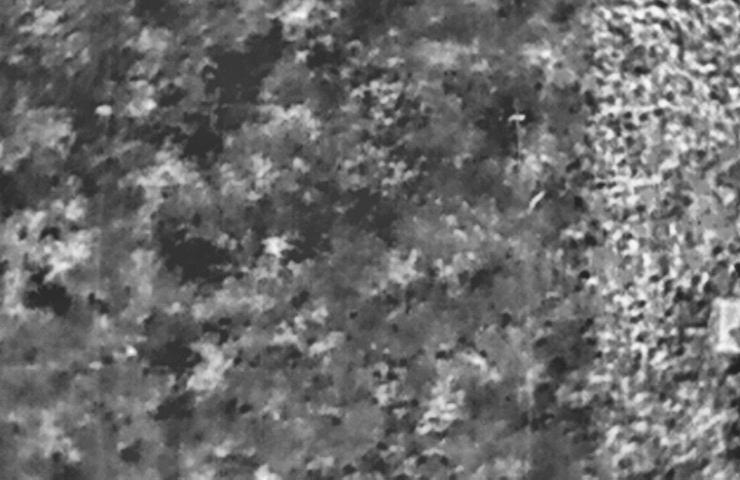landmines: (264, 233, 301, 260)
